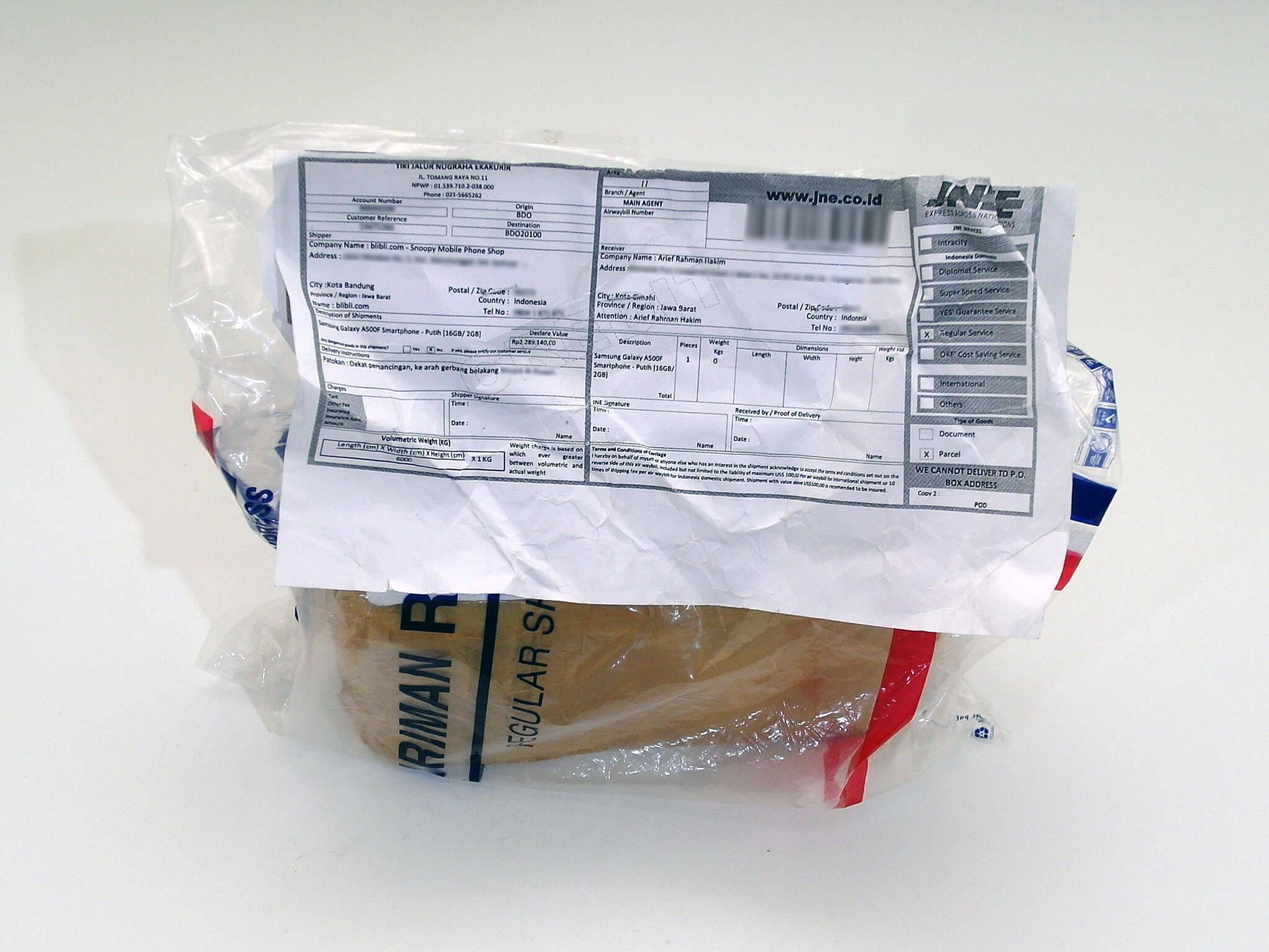undamaged: (154, 114, 1139, 836)
